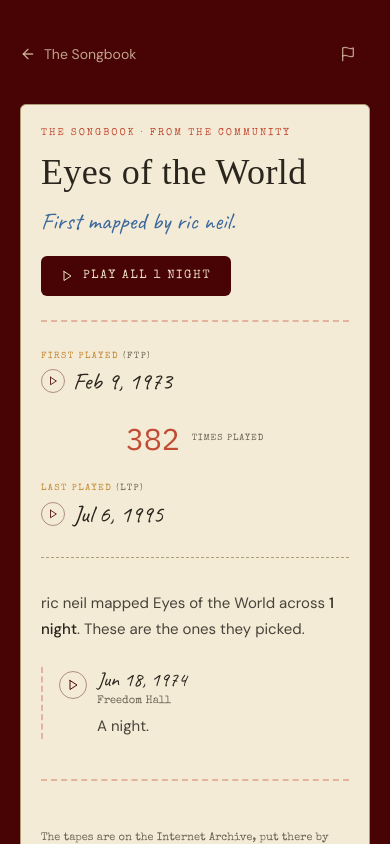
Test: community Songbook issue: report and block › names the guide and its author, the way Apple names the controls
Click the button named "Report or block": (348, 54) [326,32,370,76]
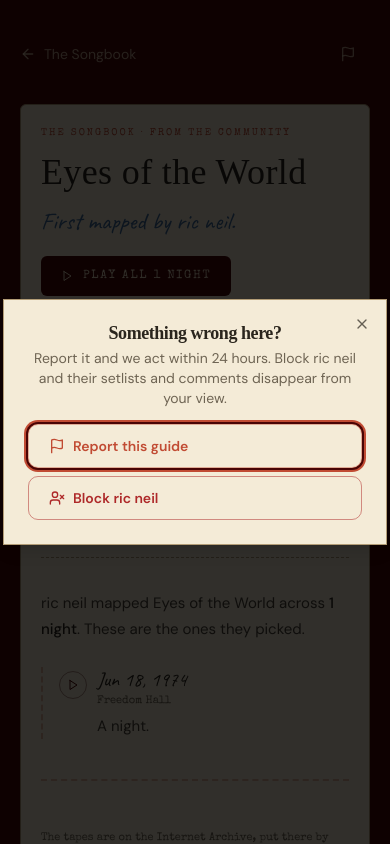
Check: the button "Report this guide" is shown, box [28,424,362,468]
Check: the button "Block ric neil" is shown, box [28,476,362,520]
